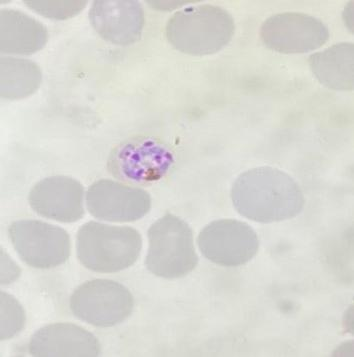Infected: (107, 134, 173, 186)
Uninfected: (231, 165, 304, 223), (76, 219, 141, 271), (145, 210, 197, 275), (162, 8, 233, 55), (68, 279, 131, 328), (8, 218, 69, 267), (197, 218, 259, 266), (88, 178, 152, 224), (260, 12, 330, 53), (30, 174, 85, 221), (30, 323, 105, 357), (307, 40, 354, 93), (90, 0, 144, 46), (0, 11, 49, 54), (0, 53, 46, 98)
